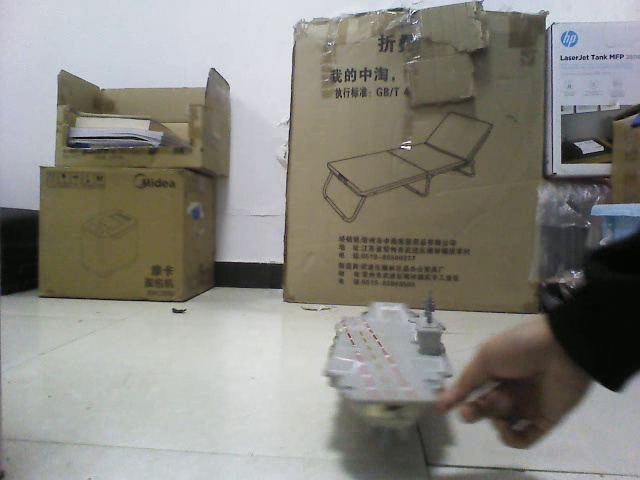aircraft_carrier: (319, 292, 455, 427)
